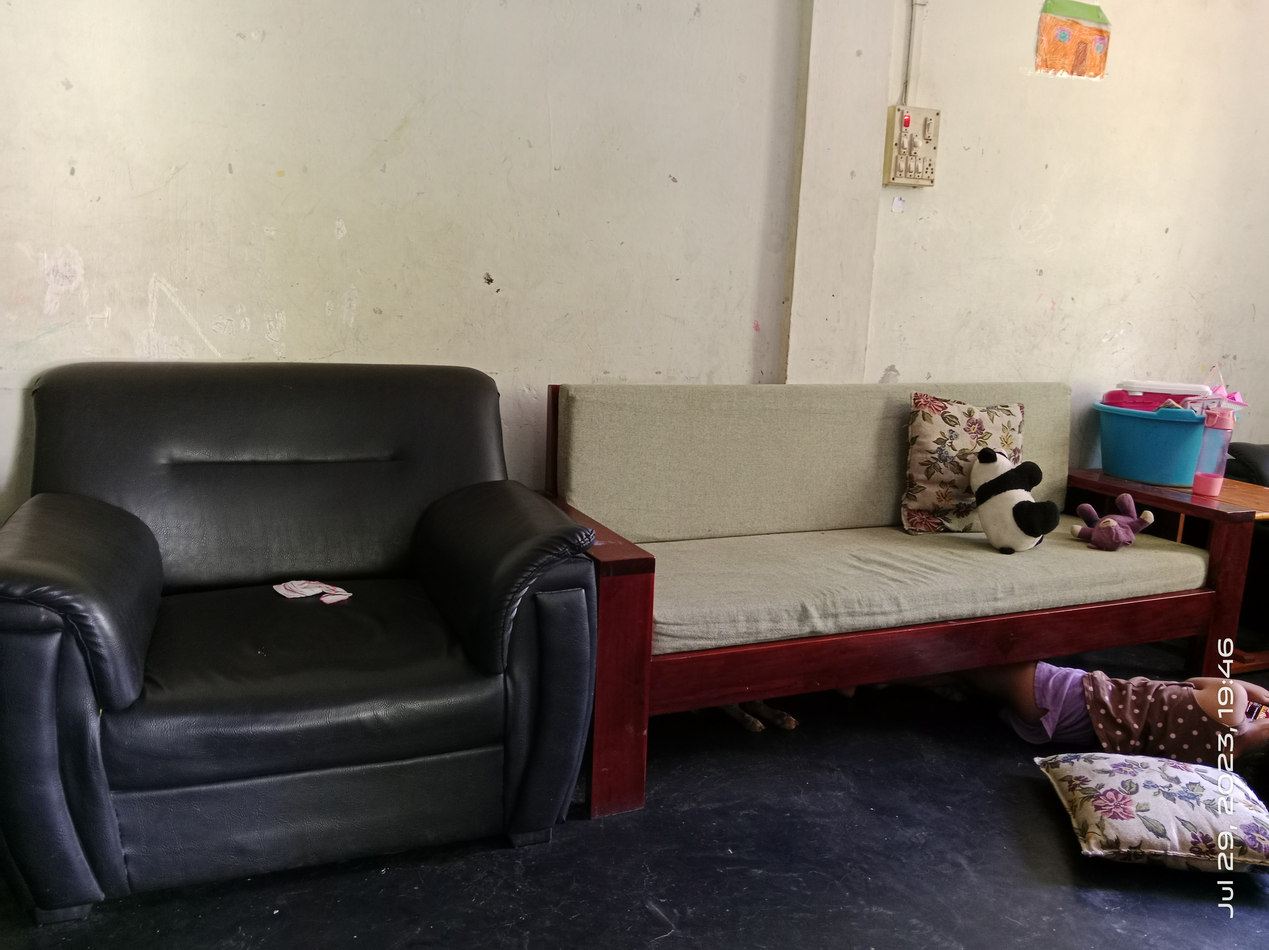sofa: (0, 365, 603, 913), (542, 380, 1259, 819)
